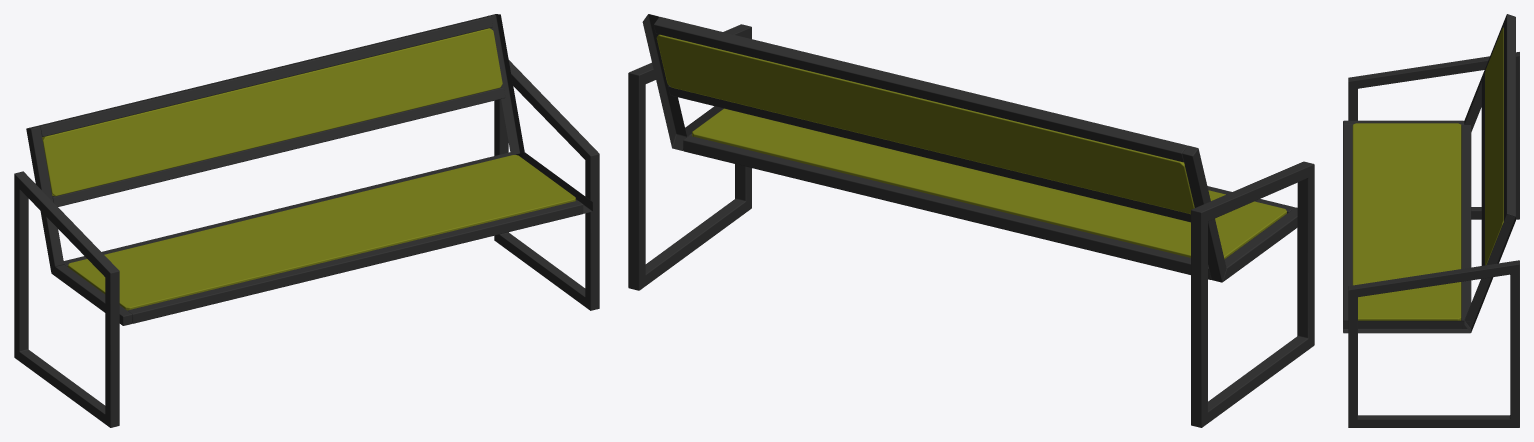
3 views of the same model, side by side, from view 1: azimuth 30°, elevation 25°; view 2: azimuth 150°, elevation 25°; view 3: azimuth 270°, elevation 25° (orthographic). The views are drawn at different scales.
Visible parts, largest first — view 1: Box001, Object003, Object011, Object004, Object010, Object009, Object008; view 2: Box001, Object003, Object010, Object011, Object008, Object009; view 3: Box001, Object011, Object003, Object010, Object008, Object004, Object009.
Boxes of the visible parts, x1,y1,x2,y2 form: Box001: [42, 28, 575, 310]; Object003: [14, 126, 132, 427]; Object011: [487, 14, 599, 310]; Object004: [127, 200, 583, 323]; Object010: [36, 16, 492, 136]; Object009: [52, 87, 505, 206]; Object008: [63, 152, 515, 266]; Box001: [656, 34, 1286, 259]; Object003: [1182, 145, 1314, 427]; Object010: [654, 16, 1187, 162]; Object011: [628, 14, 751, 290]; Object008: [683, 135, 1211, 279]; Object009: [668, 85, 1190, 222]; Box001: [1352, 27, 1503, 320]; Object011: [1343, 214, 1519, 427]; Object003: [1343, 14, 1519, 219]; Object010: [1503, 18, 1515, 223]; Object008: [1461, 125, 1471, 328]; Object004: [1343, 125, 1352, 328]; Object009: [1481, 73, 1490, 278].
Bounding box in the file's own units: 2063 × 725 × 933.
